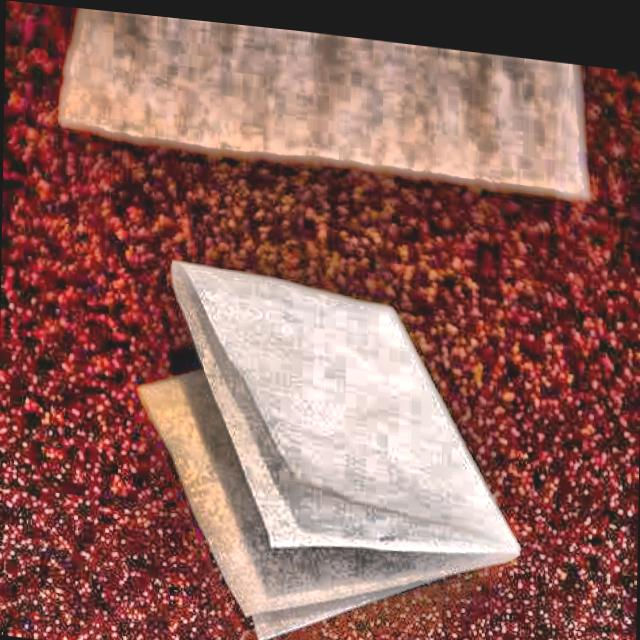Paper: (111, 226, 542, 640)
